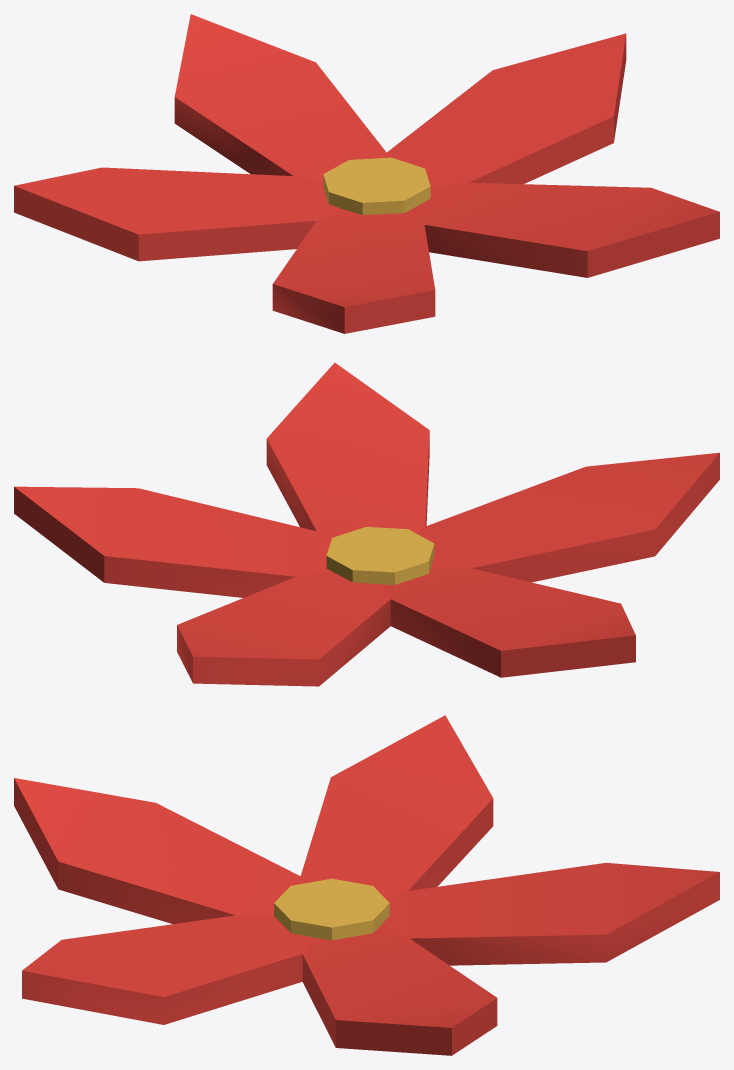
File: Flower_Red_2.fbx
3 renders of one model, top to bottom at view 1: azimuth 30°, elevation 25°; view 2: azimuth 150°, elevation 25°; view 3: azimuth 270°, elevation 25°, orthographic. The views are drawn at different scales.
Parts seen in each view (by area): view 1: Cube.080, Cylinder.247; view 2: Cube.080, Cylinder.247; view 3: Cube.080, Cylinder.247.
Boxes of the visible parts, bbox=[...] form: Cube.080: bbox=[14, 14, 719, 333]; Cylinder.247: bbox=[323, 157, 430, 214]; Cube.080: bbox=[14, 362, 719, 686]; Cylinder.247: bbox=[326, 527, 434, 584]; Cube.080: bbox=[14, 715, 719, 1055]; Cylinder.247: bbox=[274, 878, 389, 940].
Bounding box in the file's own units: 71.56 × 7.88 × 68.25.
